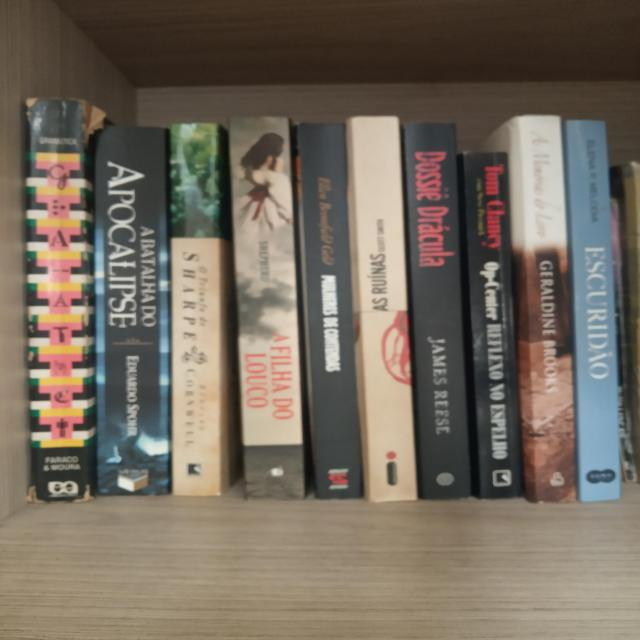book: (97, 132, 159, 488), (28, 102, 81, 496), (243, 120, 288, 495), (172, 126, 214, 494), (360, 115, 397, 501), (314, 126, 346, 499), (586, 114, 616, 500)
